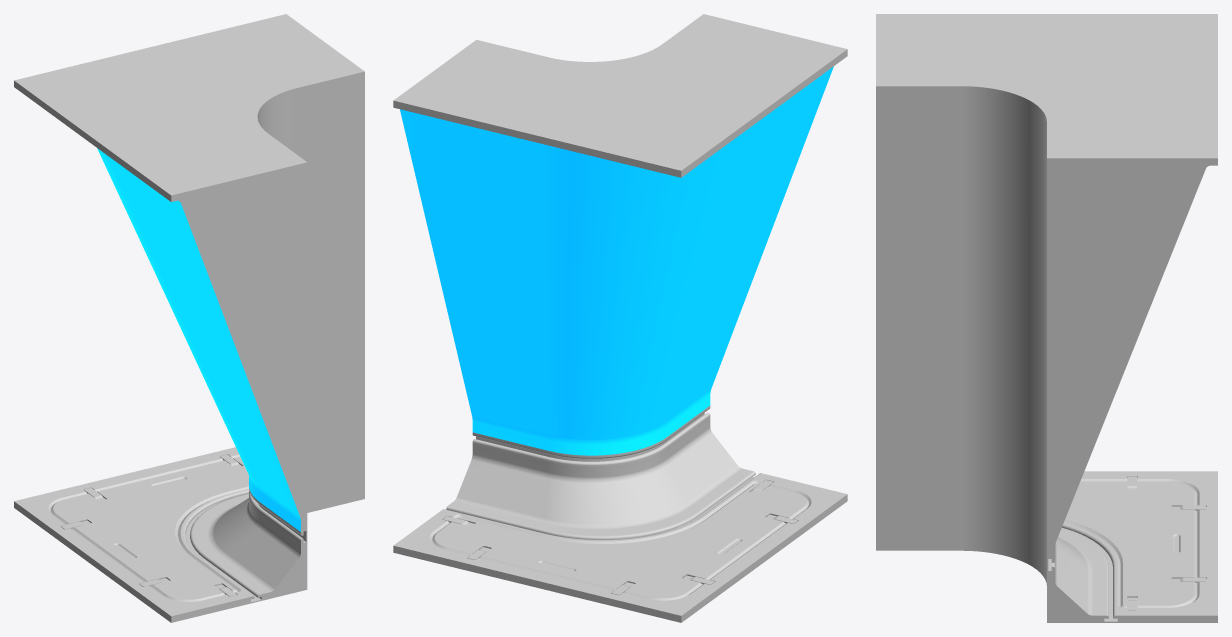
Rendered from SM_MOD_Laser_Wall_04_Crn_Cvx_01.fbx.
3 views of the same model, side by side, from view 1: azimuth 30°, elevation 25°; view 2: azimuth 150°, elevation 25°; view 3: azimuth 270°, elevation 25° (orthographic). The views are drawn at different scales.
Visible parts, largest first — view 1: SM_MOD_Laser_Wall_04_Crn_Cvx_01_LOD0; view 2: SM_MOD_Laser_Wall_04_Crn_Cvx_01_LOD0; view 3: SM_MOD_Laser_Wall_04_Crn_Cvx_01_LOD0.
Part boxes in pixels (bbox=[...]): SM_MOD_Laser_Wall_04_Crn_Cvx_01_LOD0: bbox=[14, 14, 364, 622]; SM_MOD_Laser_Wall_04_Crn_Cvx_01_LOD0: bbox=[393, 14, 847, 622]; SM_MOD_Laser_Wall_04_Crn_Cvx_01_LOD0: bbox=[876, 14, 1217, 622].
Size of what is drawn, in the model's own units: 512 by 768 by 512.
